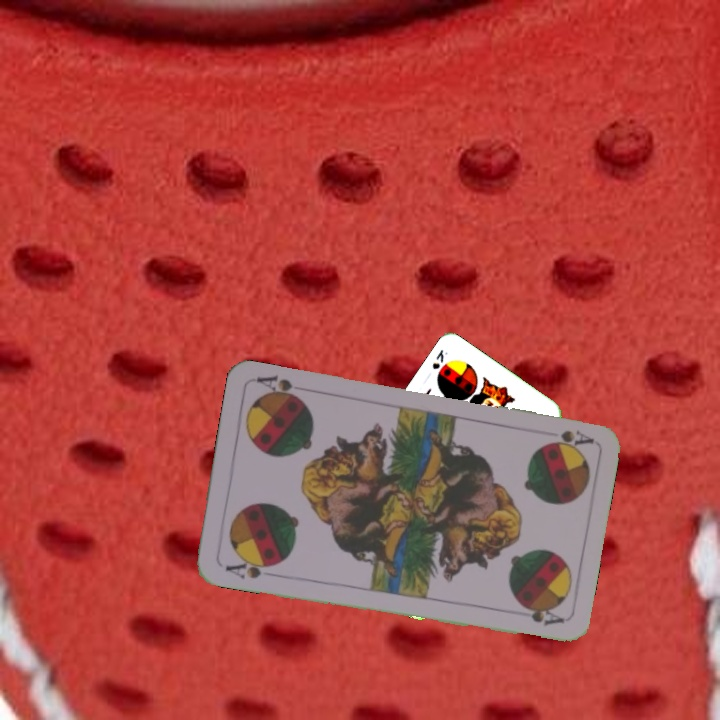SA: (221, 554, 279, 581), (541, 426, 596, 453)
SK: (428, 345, 450, 372)
